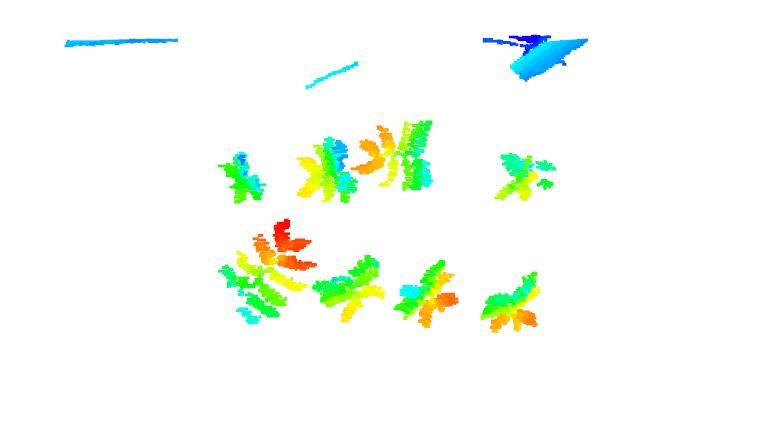chickpea: (216, 215, 317, 328), (351, 117, 439, 193), (312, 253, 388, 322), (295, 136, 362, 209), (393, 257, 458, 329), (477, 268, 545, 335), (492, 149, 560, 203), (217, 151, 271, 205)
